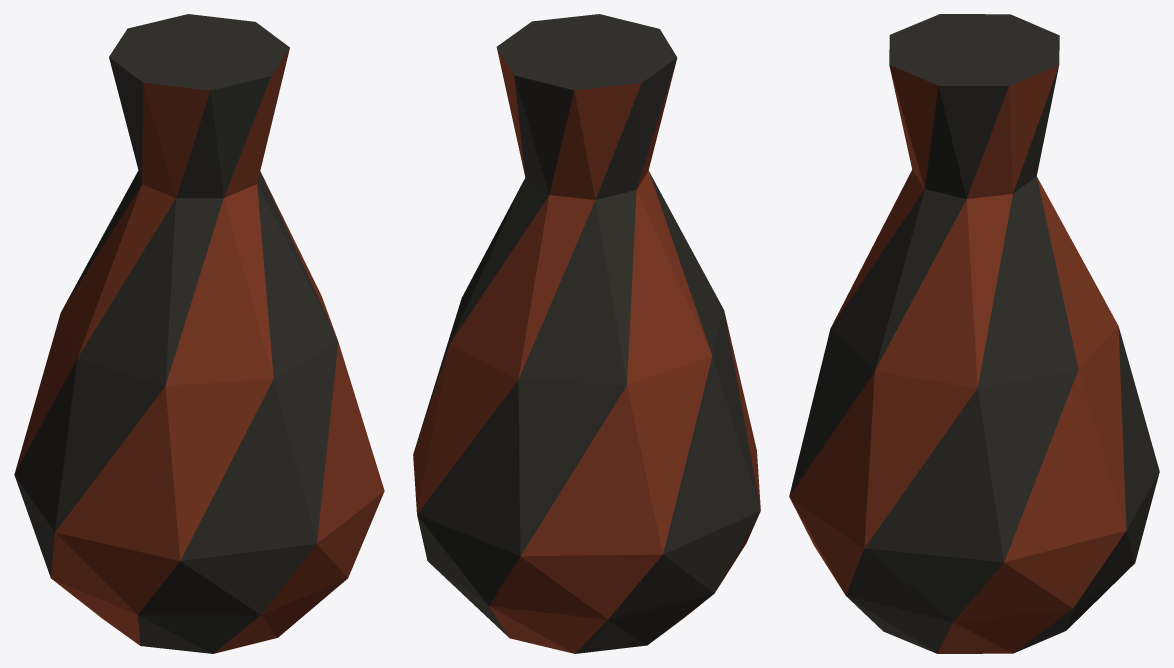
Rendered from Prop_VaseG.fbx.
3 renders of one model, left to right at view 1: azimuth 30°, elevation 25°; view 2: azimuth 150°, elevation 25°; view 3: azimuth 270°, elevation 25°, orthographic.
Parts seen in each view (by area): view 1: Prop_VaseG; view 2: Prop_VaseG; view 3: Prop_VaseG.
Part boxes in pixels (x1=…): Prop_VaseG: x1=14, y1=14, x2=384, y2=653; Prop_VaseG: x1=413, y1=14, x2=760, y2=653; Prop_VaseG: x1=789, y1=14, x2=1159, y2=653.
Bounding box in the file's own units: 27.74 × 46.67 × 27.74.
